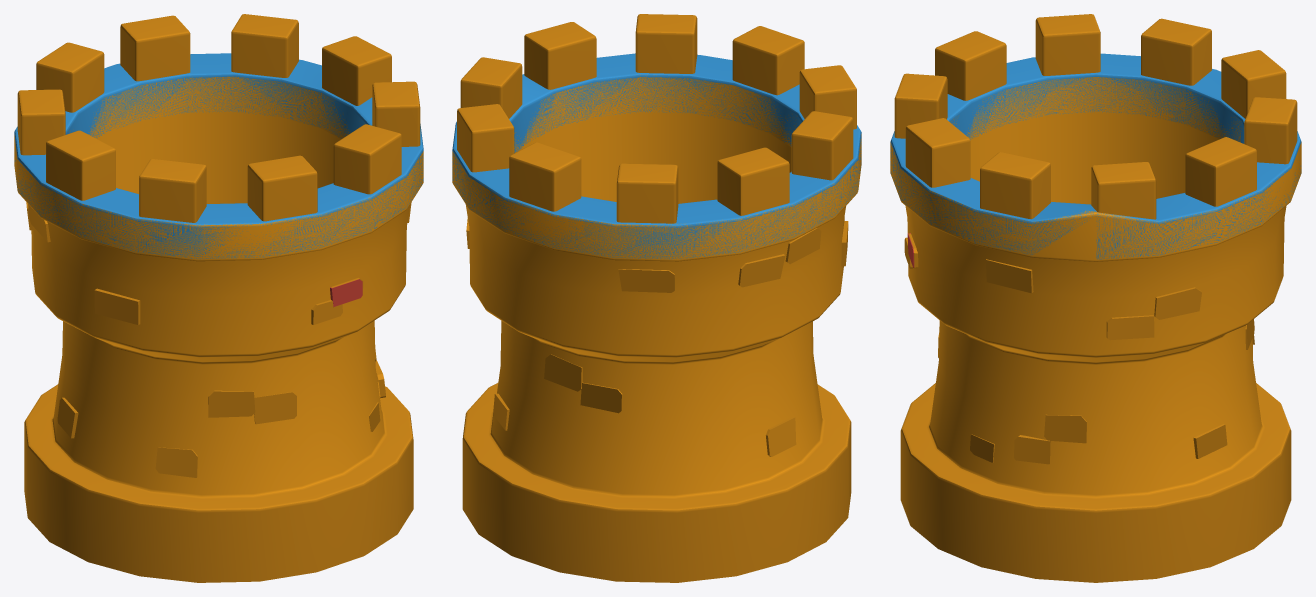
The model's file is Castle_03.fbx.
3 views of the same model, side by side, from view 1: azimuth 30°, elevation 25°; view 2: azimuth 150°, elevation 25°; view 3: azimuth 270°, elevation 25° (orthographic).
Parts seen in each view (by area): view 1: Castle_01, Castle_03, Castle_02; view 2: Castle_01, Castle_03; view 3: Castle_01, Castle_03.
Boxes of the visible parts, bbox=[...] form: Castle_01: bbox=[14, 14, 423, 582]; Castle_03: bbox=[14, 53, 423, 259]; Castle_02: bbox=[330, 279, 362, 306]; Castle_01: bbox=[452, 14, 861, 582]; Castle_03: bbox=[452, 53, 861, 259]; Castle_01: bbox=[890, 14, 1301, 582]; Castle_03: bbox=[890, 53, 1301, 259].
Size of the model in its own units: 1.86 by 2.01 by 1.86.
